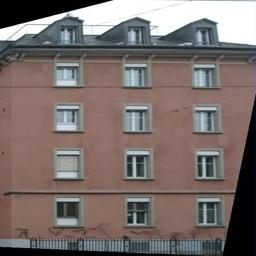building: (10, 16, 256, 239)
